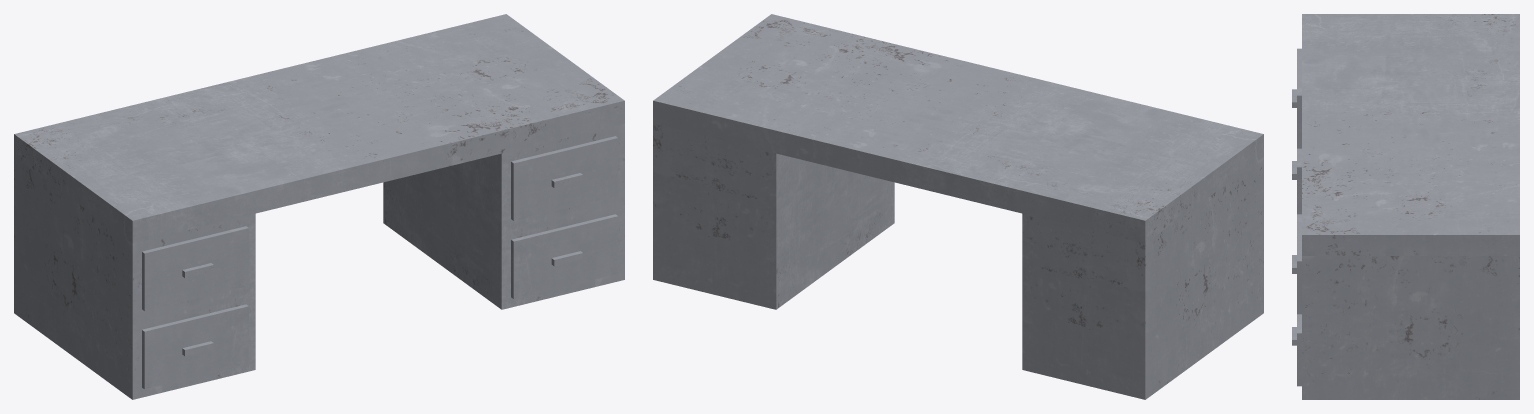
The model's file is Fbx_Props_LabEq_Desk.fbx.
The picture shows the model from 3 angles, left to right: view 1: azimuth 30°, elevation 25°; view 2: azimuth 150°, elevation 25°; view 3: azimuth 270°, elevation 25°; orthographic projection. The views are drawn at different scales.
Visible parts, largest first — view 1: pCube2, pCube3, pCube22; view 2: pCube2, pCube3, pCube22; view 3: pCube2, pCube22, pCube3.
Part boxes in pixels (box(x1,y1,x2,y2)): pCube2: box(14, 14, 624, 243); pCube3: box(14, 157, 255, 399); pCube22: box(383, 123, 624, 309); pCube2: box(653, 14, 1263, 243); pCube3: box(1022, 157, 1263, 399); pCube22: box(653, 123, 894, 309); pCube2: box(1302, 14, 1519, 255); pCube22: box(1292, 214, 1519, 399); pCube3: box(1292, 48, 1301, 214).
Bounding box in the file's own units: 300 × 104 × 131.
